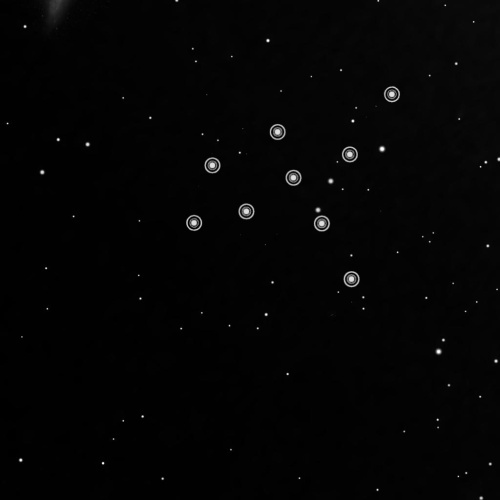cygnus: (182, 82, 405, 292)
